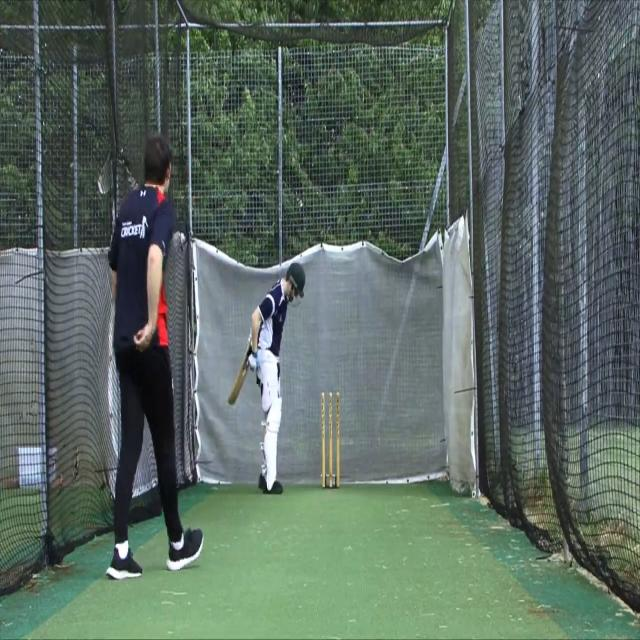batsman: (226, 260, 308, 496)
